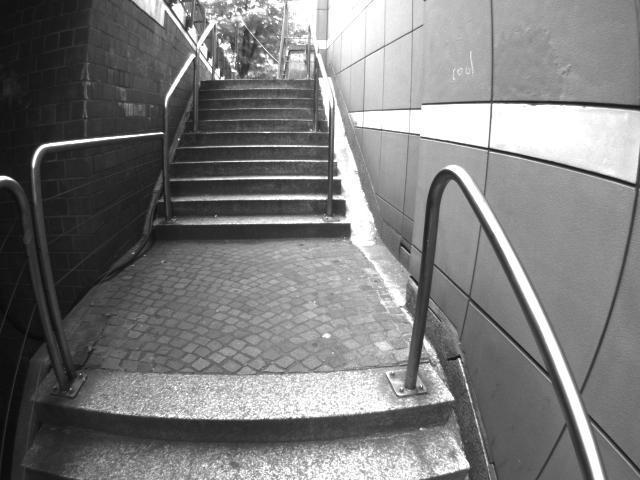Escaleras: (12, 363, 468, 479), (154, 79, 355, 240)
